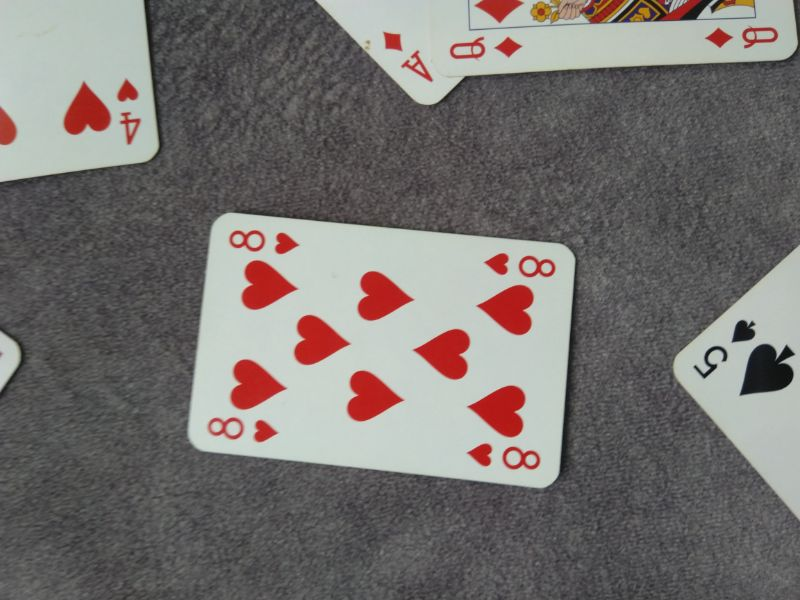4h: (115, 74, 145, 150)
5s: (689, 316, 759, 379)
8h: (465, 440, 544, 475), (481, 249, 560, 282), (225, 225, 304, 257), (205, 414, 283, 446)
Ad: (381, 27, 437, 86)
Qd: (704, 23, 781, 52), (446, 33, 525, 61)
